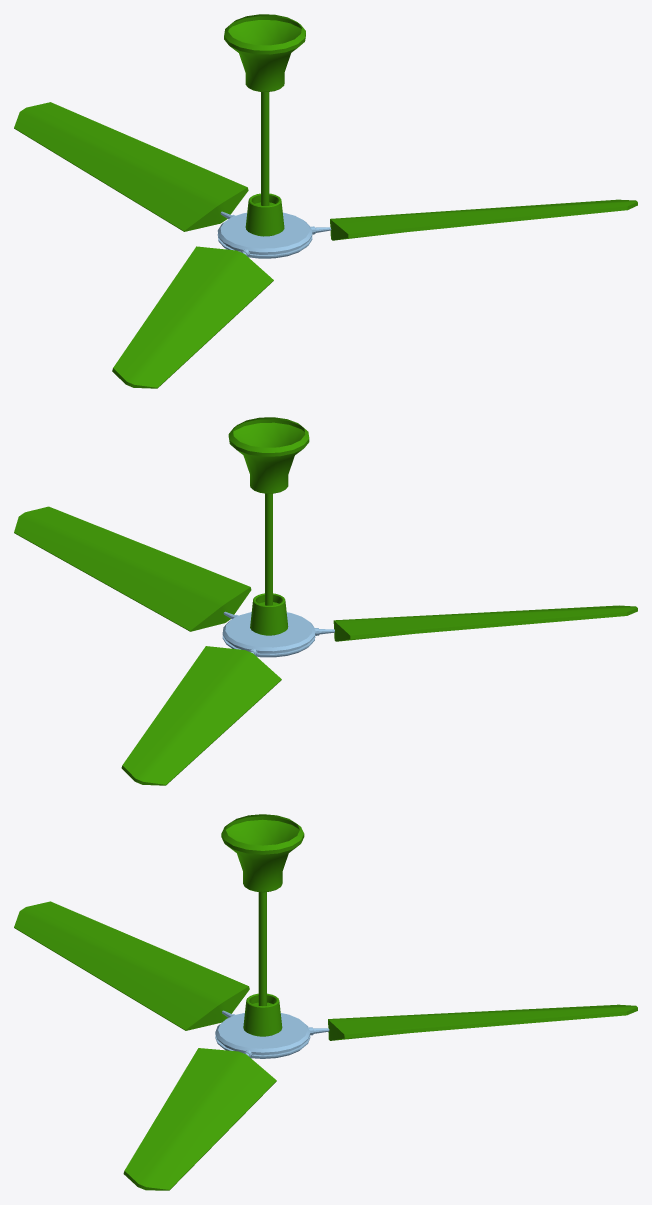
Rendered from Ceiling_Fan.fbx.
3 views of the same model, one above another, from view 1: azimuth 30°, elevation 25°; view 2: azimuth 150°, elevation 25°; view 3: azimuth 270°, elevation 25° (orthographic).
Parts seen in each view (by area): view 1: Ceiling_Fan; view 2: Ceiling_Fan; view 3: Ceiling_Fan.
Boxes of the visible parts, x1=… form: Ceiling_Fan: x1=14, y1=14, x2=637, y2=388; Ceiling_Fan: x1=14, y1=417, x2=637, y2=785; Ceiling_Fan: x1=14, y1=814, x2=637, y2=1190.
Bounding box in the file's own units: 2.72 × 0.9822 × 2.57.
